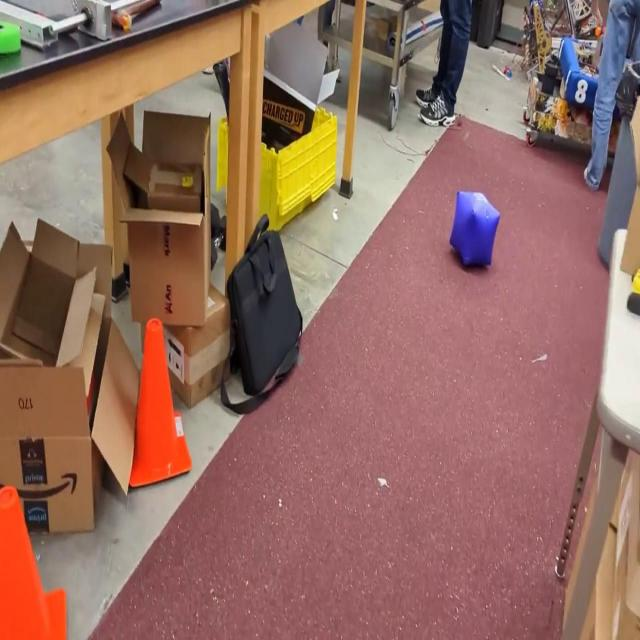frc_cube: (450, 188, 501, 270)
